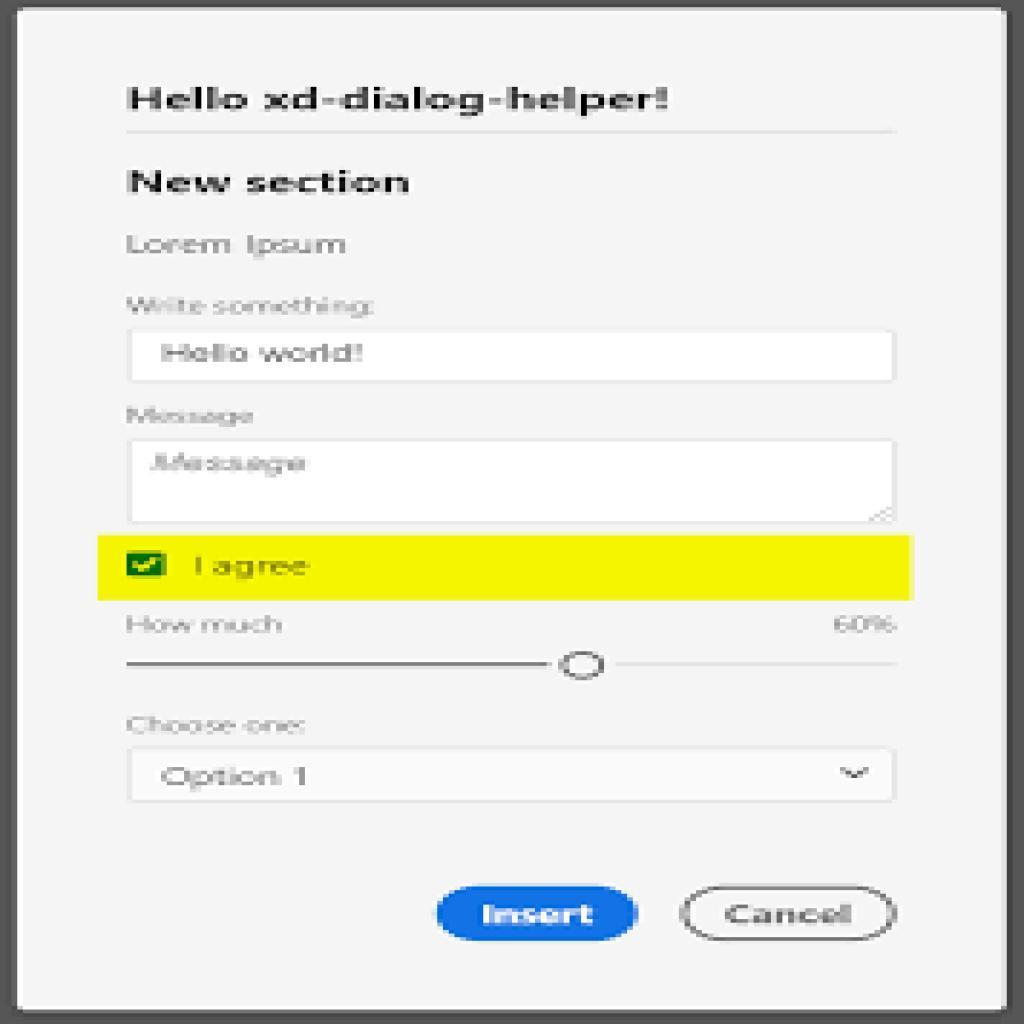button: (432, 882, 641, 949), (681, 887, 898, 945)
checkbox: (126, 554, 169, 582)
dropdown: (129, 750, 896, 805)
input: (132, 441, 895, 527), (135, 330, 894, 383)
slider: (120, 647, 894, 691)
